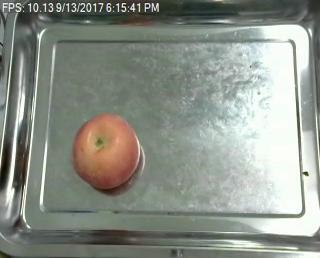apple: (72, 114, 139, 190)
